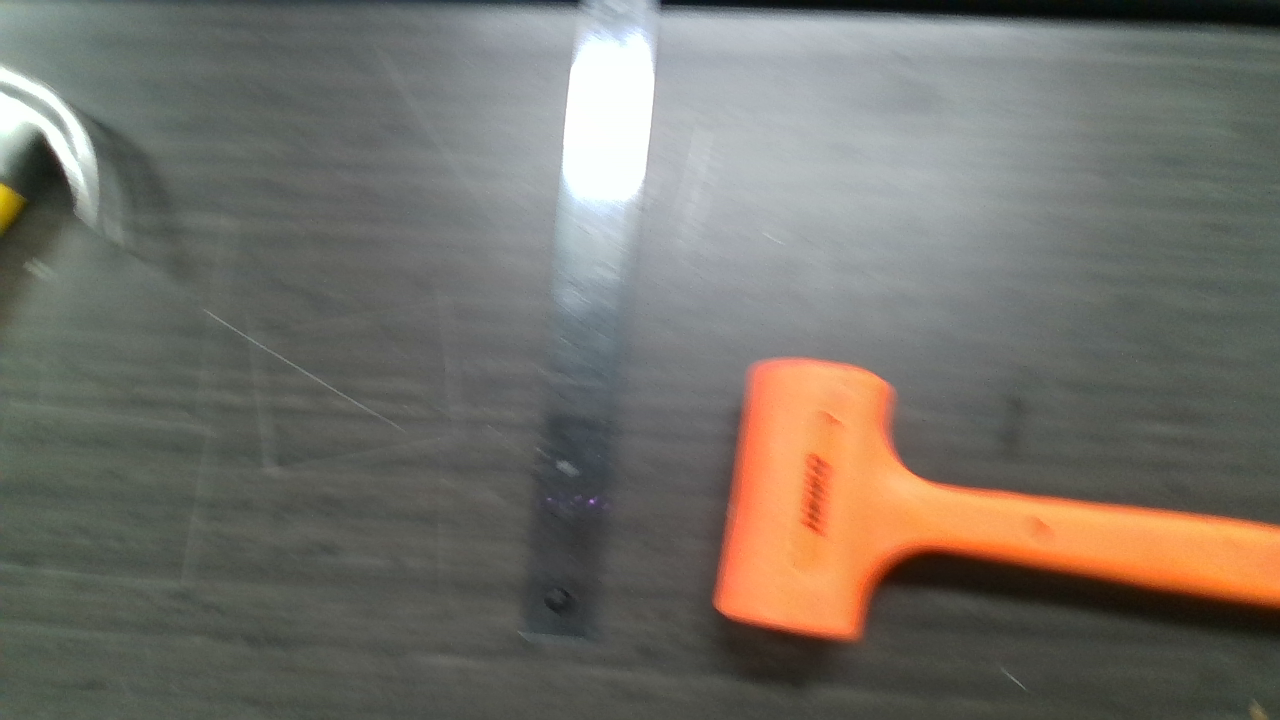Orange Hammer: (719, 358, 1276, 647)
